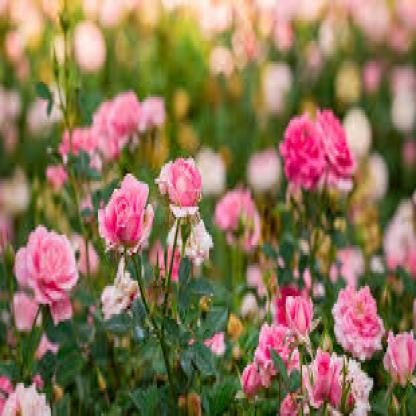Rose-Mawar: (241, 96, 408, 415), (32, 80, 208, 333)
